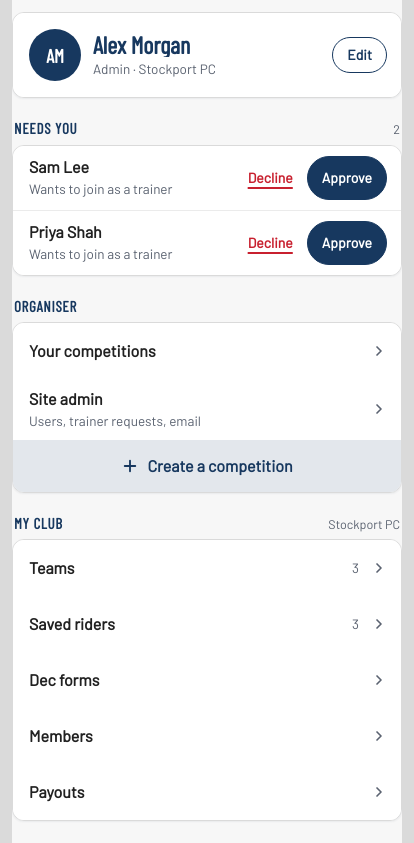
Test: ProfilePage: needs you › keeps the row and says so under it when the server refuses
Click the button with aria-label "Approve Sam Lee".
click(347, 178)  # box top-left (307, 156), bottom-right (387, 200)
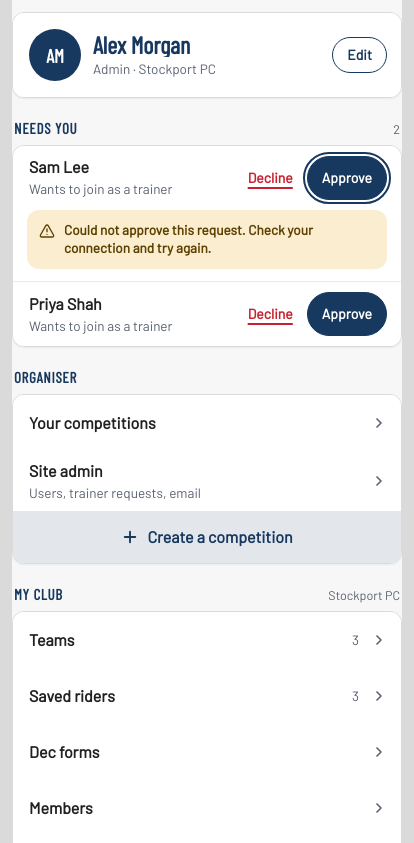
Check: the text "Sam Lee" is shown, box top-left (29, 157), bottom-right (89, 176)
Check: the message reads "Could not approve this request. Check your connection and try again.", box top-left (64, 220), bottom-right (313, 256)
